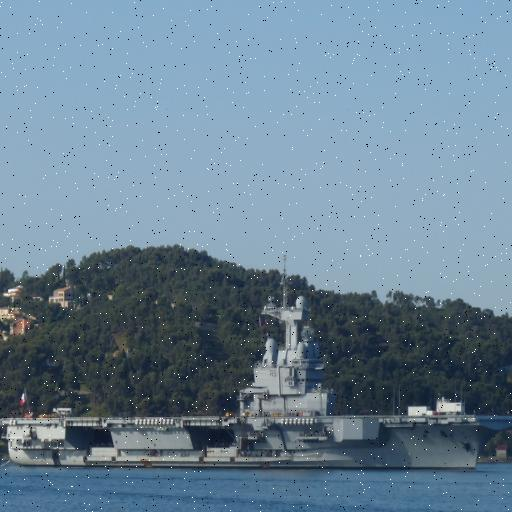Portanaves: (1, 257, 512, 471)
